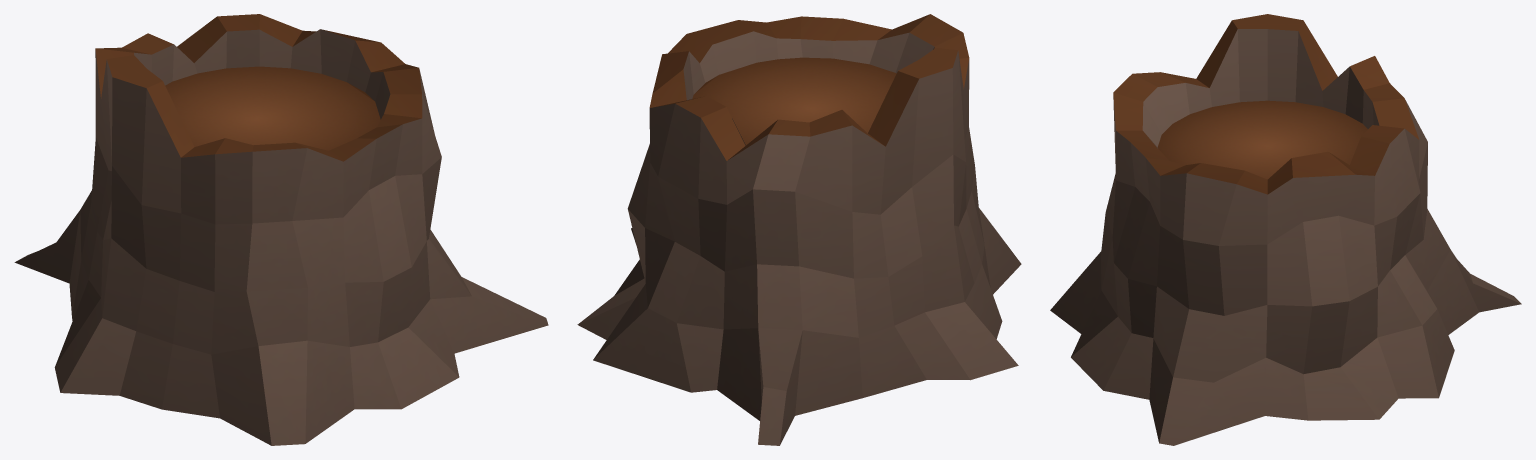
File: Log_3.fbx
3 views of the same model, side by side, from view 1: azimuth 30°, elevation 25°; view 2: azimuth 150°, elevation 25°; view 3: azimuth 270°, elevation 25° (orthographic). The views are drawn at different scales.
Parts seen in each view (by area): view 1: Log_3.001; view 2: Log_3.001; view 3: Log_3.001.
Part boxes in pixels (<box>): Log_3.001: <box>14,14,548,445</box>; Log_3.001: <box>577,14,1021,445</box>; Log_3.001: <box>1050,14,1521,445</box>.
Size of the model in its own units: 1.25 by 1.29 by 0.8018.
